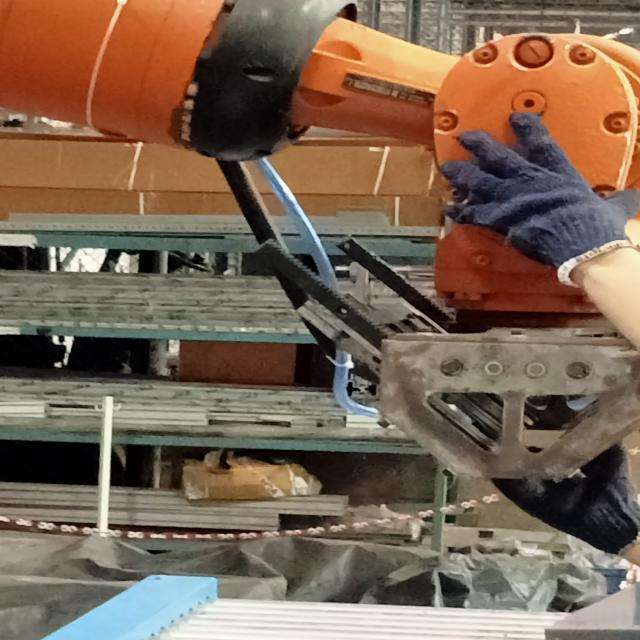Gloves-Detection: (432, 111, 637, 283)
